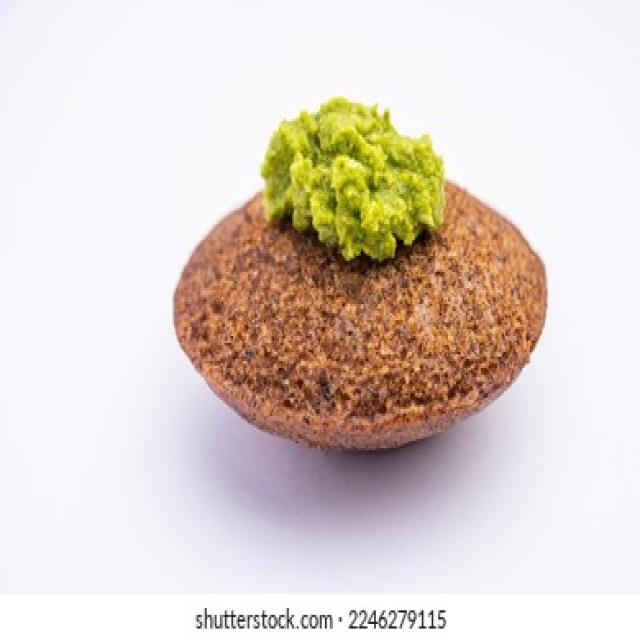IDLI: (173, 103, 545, 448)
